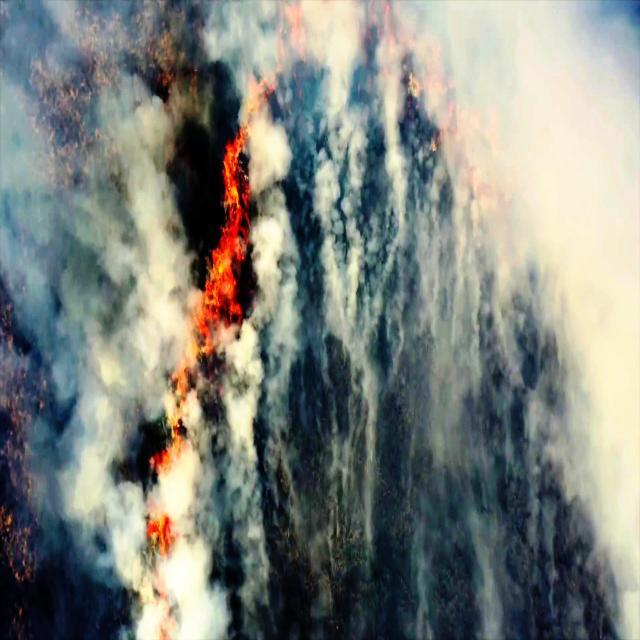Fire: (205, 141, 245, 316)
Smoke: (561, 5, 640, 527), (477, 18, 640, 245), (122, 102, 188, 376), (176, 529, 228, 640)
